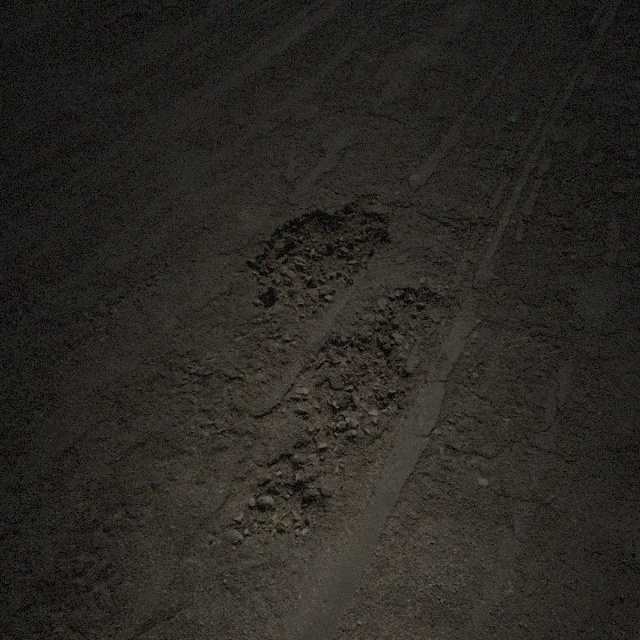pothole: (234, 286, 445, 540), (244, 190, 393, 316)
